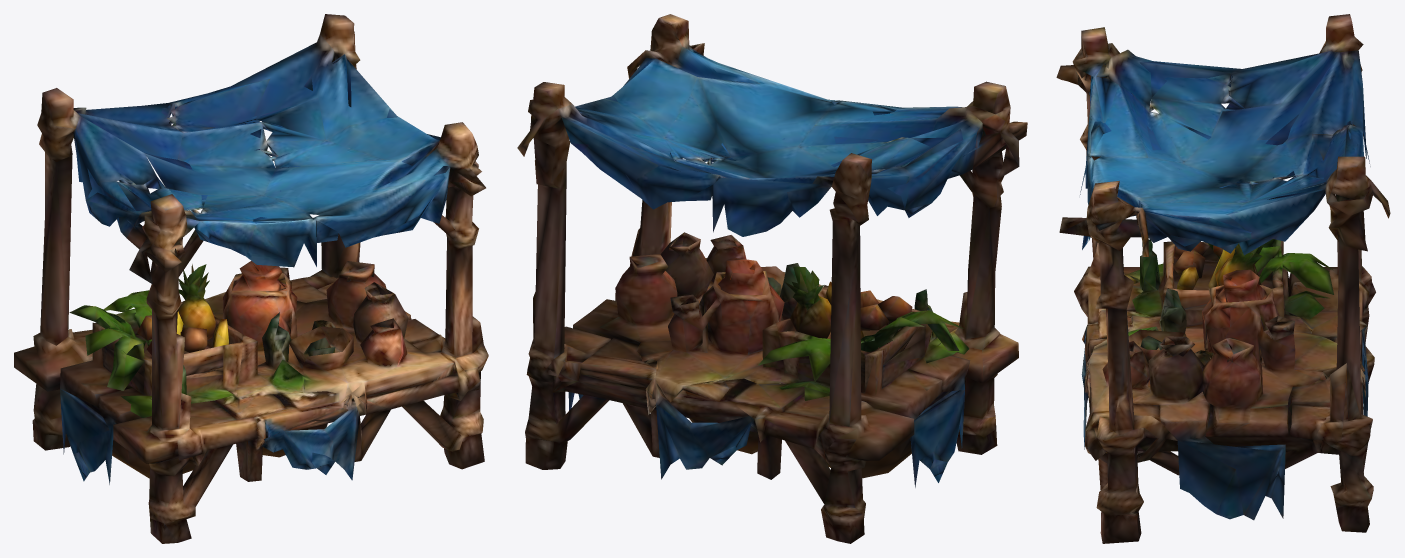
File: prop-stall-tarp-v2-desktop.glb
3 views of the same model, side by side, from view 1: azimuth 30°, elevation 25°; view 2: azimuth 150°, elevation 25°; view 3: azimuth 270°, elevation 25° (orthographic). The views are drawn at different scales.
Parts seen in each view (by area): view 1: tripo_node_291facad-19ee-4f34-a923-aa34220345fd; view 2: tripo_node_291facad-19ee-4f34-a923-aa34220345fd; view 3: tripo_node_291facad-19ee-4f34-a923-aa34220345fd.
Boxes of the visible parts, <box> form: tripo_node_291facad-19ee-4f34-a923-aa34220345fd: <box>14,14,488,543</box>; tripo_node_291facad-19ee-4f34-a923-aa34220345fd: <box>517,14,1027,543</box>; tripo_node_291facad-19ee-4f34-a923-aa34220345fd: <box>1056,14,1390,543</box>.
Bounding box in the file's own units: 0.9835 × 0.9446 × 0.7668.
Materials: 1 (1 with a texture image).
